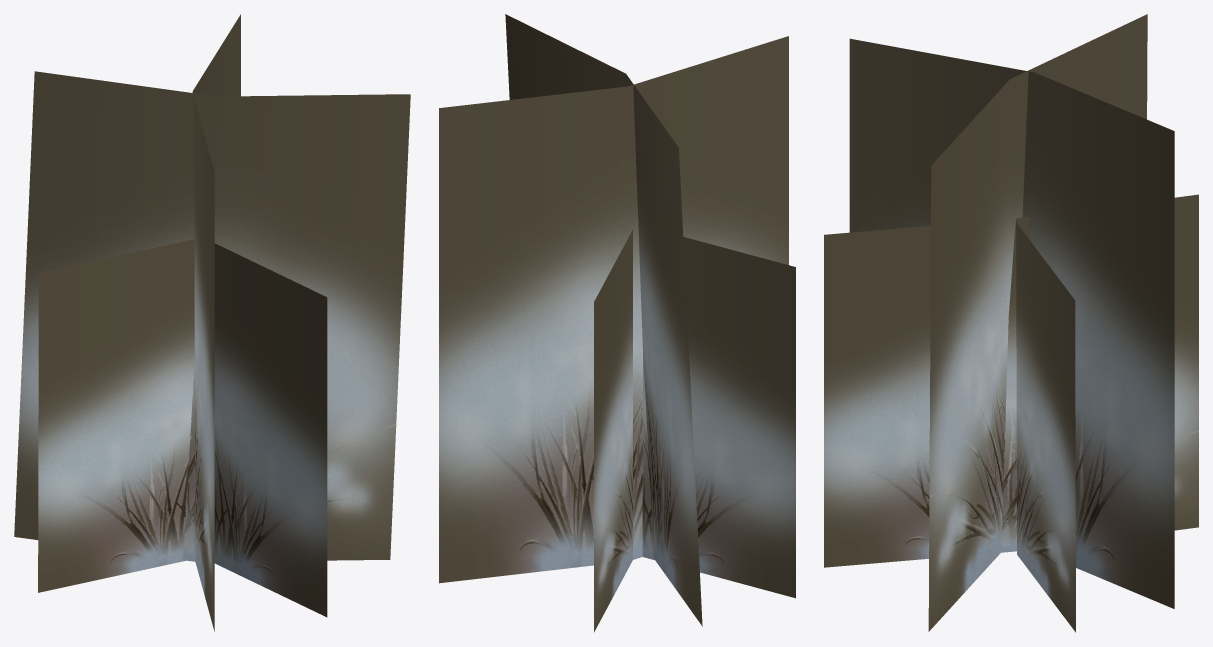
Rendered from Scene_TerrainGrass_7.FBX.
The picture shows the model from 3 angles, left to right: view 1: azimuth 30°, elevation 25°; view 2: azimuth 150°, elevation 25°; view 3: azimuth 270°, elevation 25°; orthographic projection. The views are drawn at different scales.
Visible parts, largest first — view 1: Scene_TerrainGrass_7; view 2: Scene_TerrainGrass_7; view 3: Scene_TerrainGrass_7.
Boxes of the visible parts, bbox=[...] form: Scene_TerrainGrass_7: bbox=[14, 14, 410, 631]; Scene_TerrainGrass_7: bbox=[439, 14, 795, 632]; Scene_TerrainGrass_7: bbox=[824, 14, 1198, 632].
Size of the model in its own units: 32.88 by 45.41 by 31.41.
